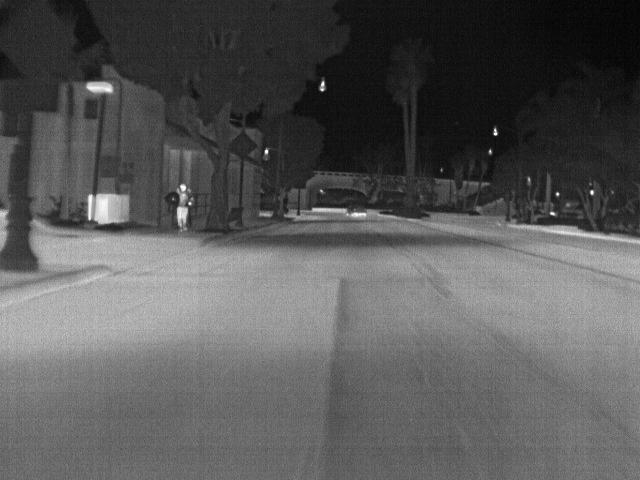car: (347, 204, 369, 220)
person: (177, 181, 196, 231)
